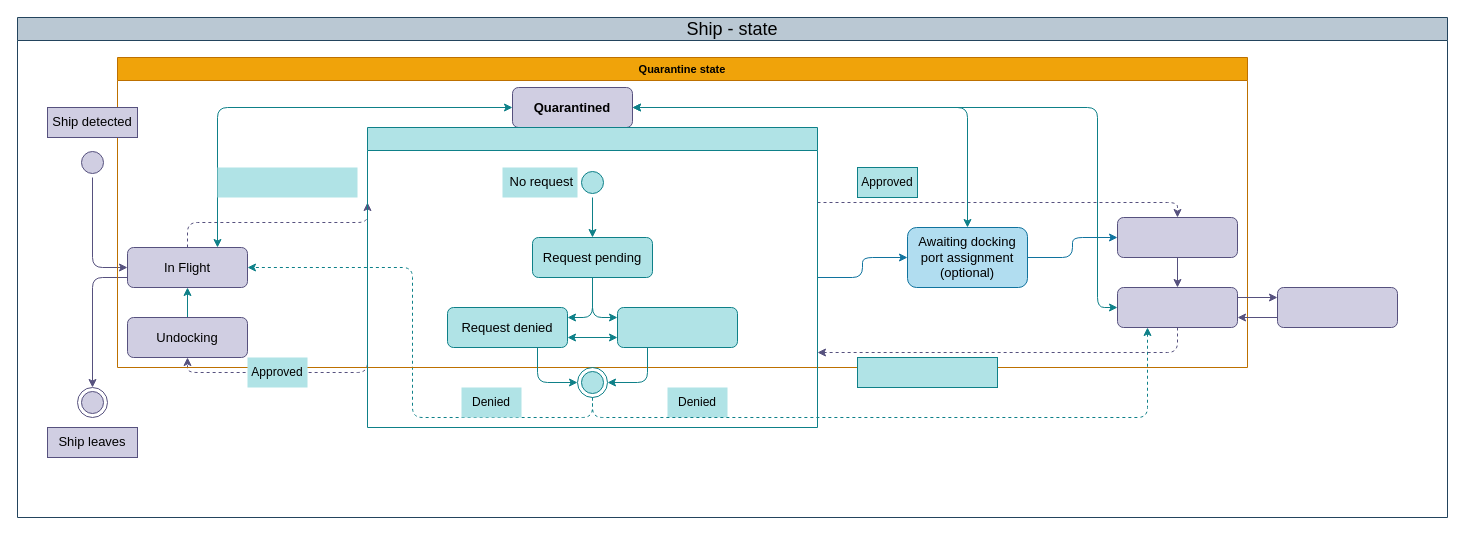
Some shapes in this 1465 by 535 pixel diagram are drawn without their labels. The shapes that lost their labels are listed below. From the top down, each one's box as (x1, y1, x2, y2) in pixels, then its label:
(217, 167, 357, 197): Send docking request
(1116, 216, 1238, 258): Docking
(366, 126, 818, 428): Request - state
(616, 306, 738, 348): Request approved
(1116, 286, 1238, 328): Docked
(1276, 286, 1398, 328): Refueling
(856, 356, 998, 388): Send departure request
